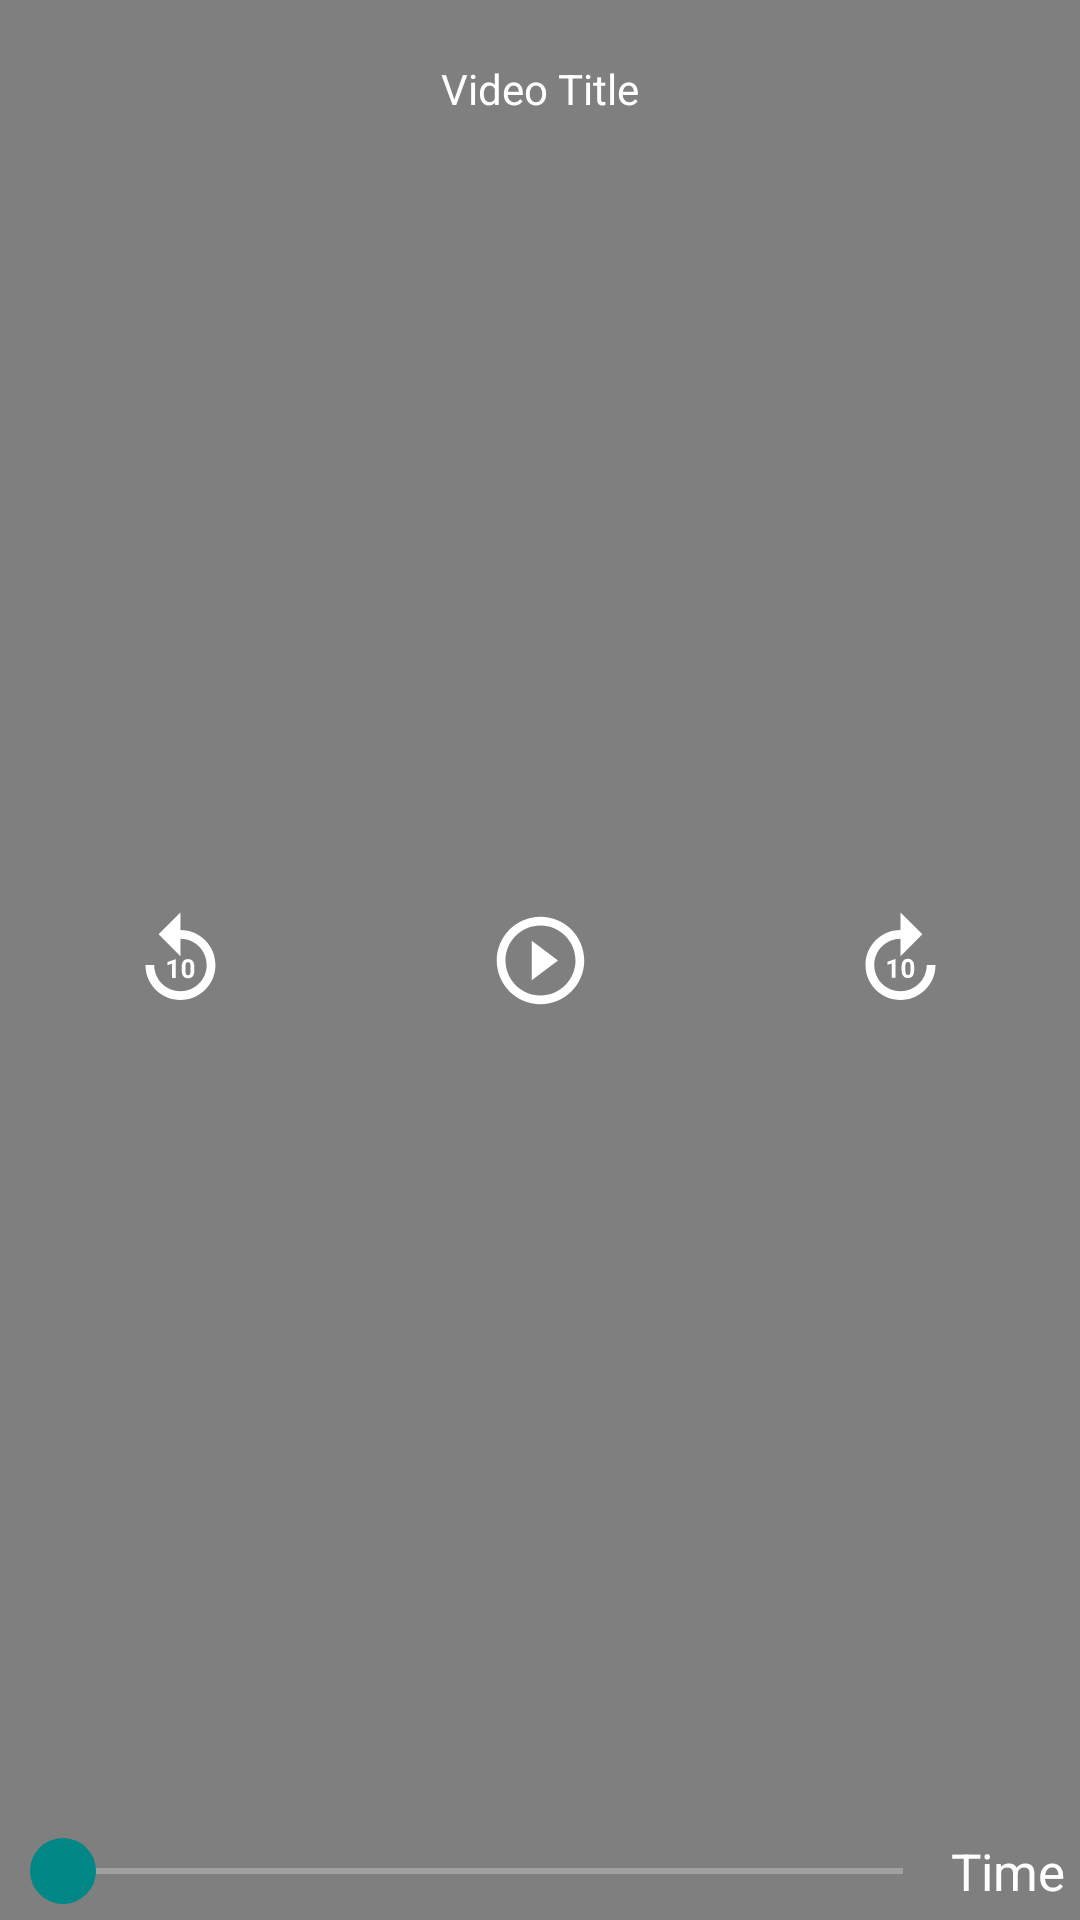

Point at icon controls on the screen. Image size 1080px x 1920px, points as (x,y).
forward: (900,956)
play: (540,960)
replay: (180,956)
